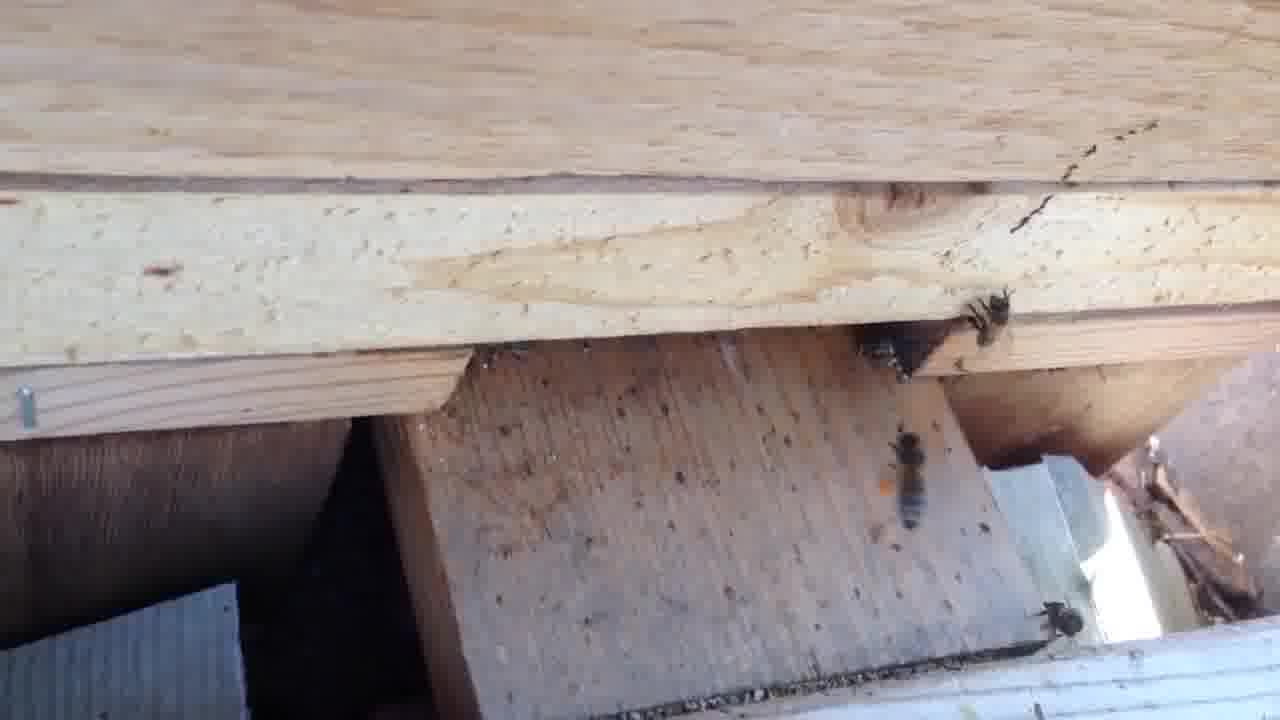pollen: (881, 424, 930, 534)
